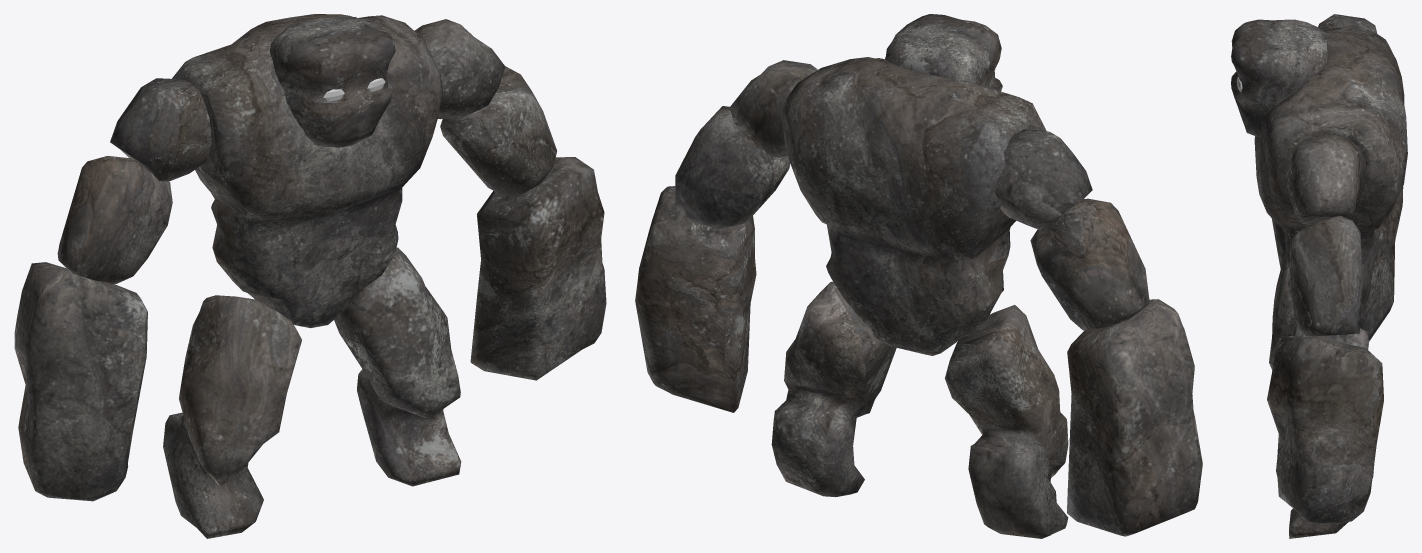
File: walk_000003.obj
3 renders of one model, left to right at view 1: azimuth 30°, elevation 25°; view 2: azimuth 150°, elevation 25°; view 3: azimuth 270°, elevation 25°, orthographic. The views are drawn at different scales.
Visible parts, largest first — view 1: hands&leg.001_ice.003, torso.001_ice.005, head.001_ice.004; view 2: hands&leg.001_ice.003, torso.001_ice.005, head.001_ice.004; view 3: hands&leg.001_ice.003, torso.001_ice.005, head.001_ice.004.
Part boxes in pixels (box(x1,y1,x2,y2)): hands&leg.001_ice.003: box(14, 19, 606, 538); torso.001_ice.005: box(172, 14, 443, 328); head.001_ice.004: box(270, 17, 395, 147); hands&leg.001_ice.003: box(635, 60, 1202, 538); torso.001_ice.005: box(781, 57, 1046, 355); head.001_ice.004: box(885, 14, 1002, 91); hands&leg.001_ice.003: box(1267, 14, 1403, 538); torso.001_ice.005: box(1254, 25, 1407, 312); head.001_ice.004: box(1231, 19, 1328, 137).
Bounding box in the file's own units: 11.75 × 9.52 × 3.38.
Materials: 2 (1 with a texture image).
